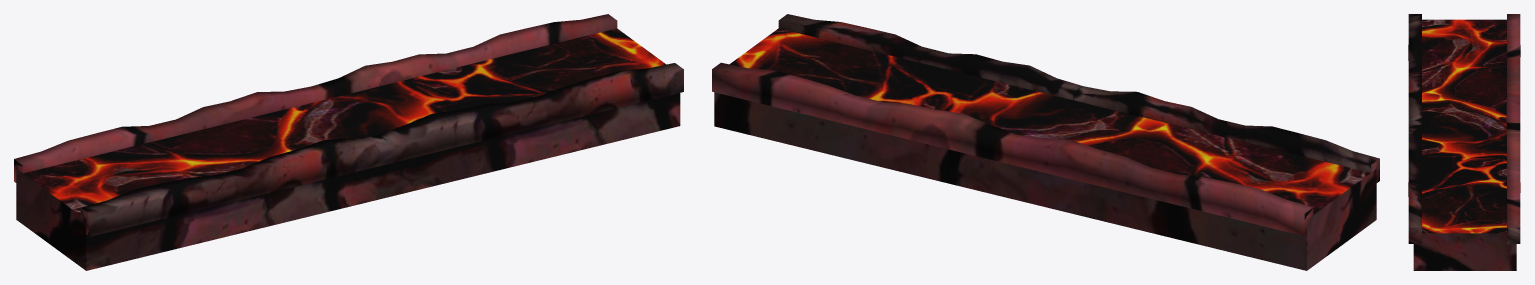
Rendered from Plataforma.fbx.
The picture shows the model from 3 angles, left to right: view 1: azimuth 30°, elevation 25°; view 2: azimuth 150°, elevation 25°; view 3: azimuth 270°, elevation 25°; orthographic projection. The views are drawn at different scales.
Parts seen in each view (by area): view 1: Cylinder; view 2: Cylinder; view 3: Cylinder.
Boxes of the visible parts, x1,y1,x2,y2 form: Cylinder: [14, 14, 683, 270]; Cylinder: [712, 14, 1379, 270]; Cylinder: [1408, 14, 1520, 270].
Bounding box in the file's own units: 1491 × 162 × 332.
